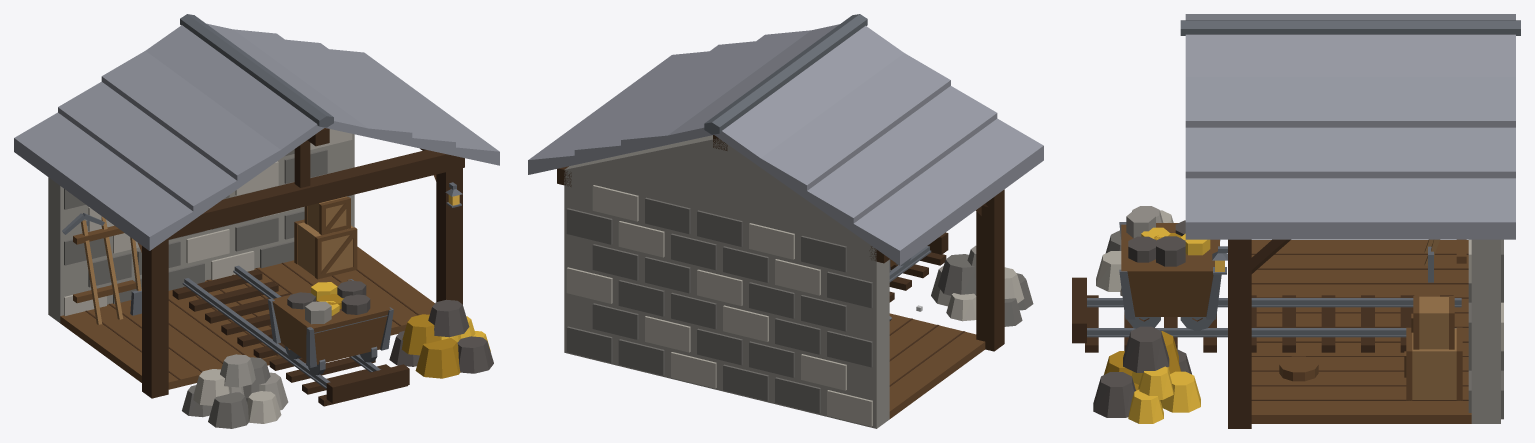
File: mining_camp.obj
3 views of the same model, side by side, from view 1: azimuth 30°, elevation 25°; view 2: azimuth 150°, elevation 25°; view 3: azimuth 270°, elevation 25° (orthographic). The views are drawn at different scales.
Parts seen in each view (by area): view 1: Roof, Floor, Pile, Wall.Stone, Post, Beam.Front, Wall, Sleeper, Cart, Roof.Ridge, Cart.Load, Crate (+10 smaller); view 2: Roof, Wall.Stone, Wall, Wall.Gable, Floor, Post, Pile, Roof.Ridge, Sleeper; view 3: Roof, Floor, Pile, Wall, Cart, Roof.Ridge, Post, Crate, Sleeper, Rail, Floor.Seam, Cart.Load (+8 smaller).
Boxes of the visible parts, bbox=[...] form: Roof: bbox=[14, 23, 499, 250]; Floor: bbox=[60, 246, 434, 389]; Pile: bbox=[182, 299, 493, 428]; Wall.Stone: bbox=[64, 129, 352, 315]; Post: bbox=[142, 154, 462, 398]; Beam.Front: bbox=[168, 150, 464, 239]; Wall: bbox=[48, 134, 354, 322]; Sleeper: bbox=[172, 269, 407, 406]; Cart: bbox=[272, 280, 391, 364]; Roof.Ridge: bbox=[180, 14, 333, 127]; Cart.Load: bbox=[287, 280, 370, 324]; Crate: bbox=[297, 196, 353, 276]; Roof: bbox=[528, 24, 1043, 265]; Wall.Stone: bbox=[566, 185, 872, 426]; Wall: bbox=[564, 170, 889, 428]; Wall.Gable: bbox=[564, 135, 868, 243]; Floor: bbox=[889, 313, 985, 418]; Post: bbox=[976, 189, 1004, 351]; Pile: bbox=[931, 245, 1033, 326]; Roof.Ridge: bbox=[704, 14, 867, 134]; Sleeper: bbox=[889, 252, 946, 302]; Roof: bbox=[1185, 14, 1515, 239]; Floor: bbox=[1251, 240, 1471, 423]; Pile: bbox=[1093, 206, 1200, 423]; Wall: bbox=[1471, 239, 1500, 423]; Cart: bbox=[1121, 223, 1219, 316]; Roof.Ridge: bbox=[1180, 20, 1520, 35]; Post: bbox=[1228, 241, 1251, 428]; Crate: bbox=[1412, 296, 1456, 399]; Sleeper: bbox=[1085, 295, 1453, 352]; Rail: bbox=[1087, 298, 1461, 334]; Floor.Seam: bbox=[1251, 253, 1468, 400]; Cart.Load: bbox=[1126, 210, 1210, 266].
Size of the model in its own units: 5 by 3.53 by 4.55.
